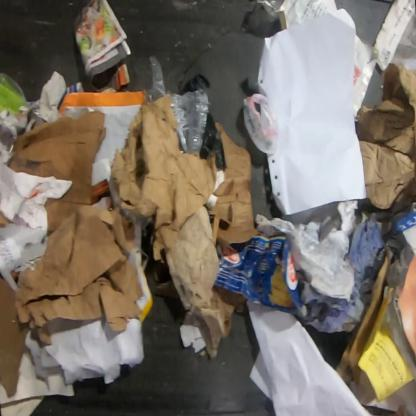cardboard: (15, 205, 144, 345), (6, 110, 106, 231), (335, 246, 394, 388), (214, 235, 302, 314), (211, 121, 257, 252), (0, 271, 29, 399), (0, 207, 18, 228)
rigid_plastic: (0, 72, 27, 115)
soft_plastic: (146, 56, 209, 154), (179, 72, 225, 169), (243, 93, 278, 156)
